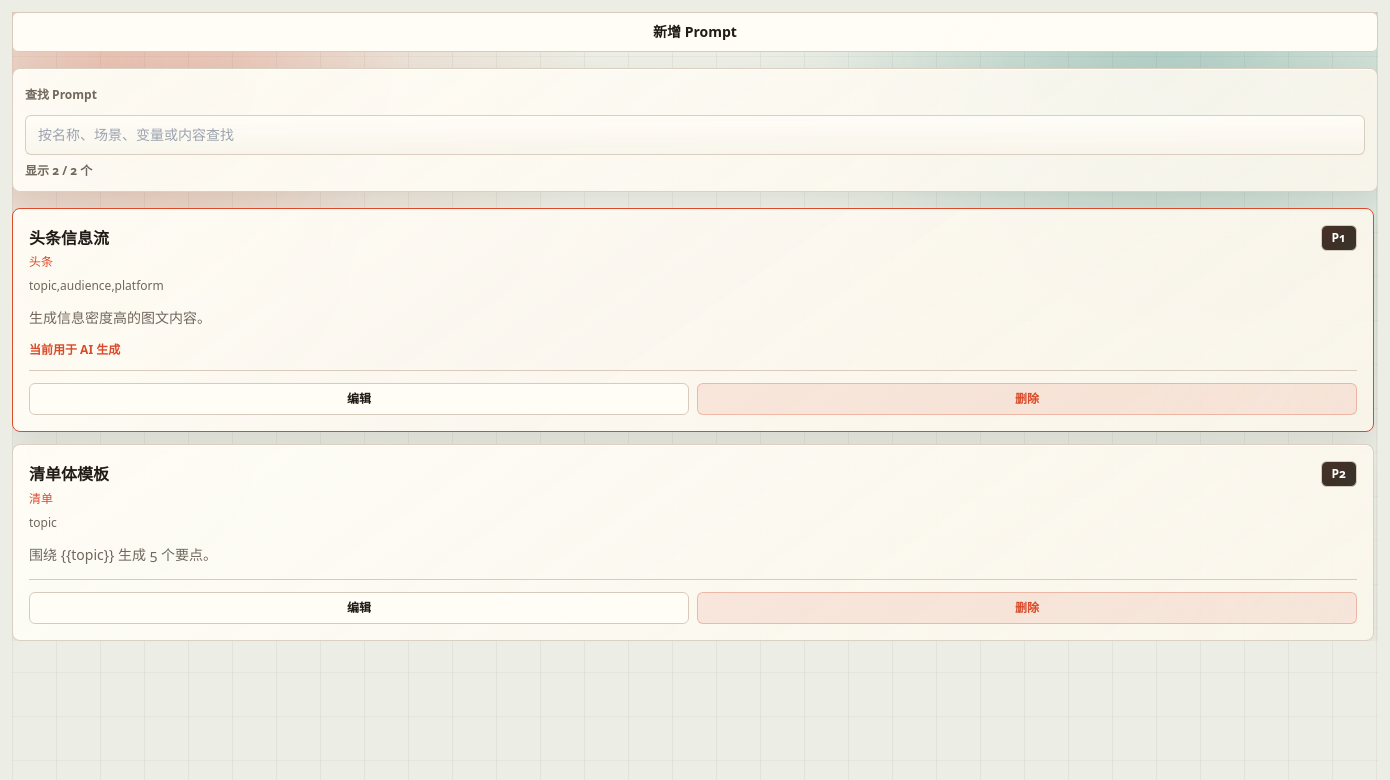
prompt library panel › filters prompt templates by keyword
Step 1. Type "清单" into the field labelled "查找 Prompt" → [695, 135], box left=25, top=115, right=1365, bottom=155
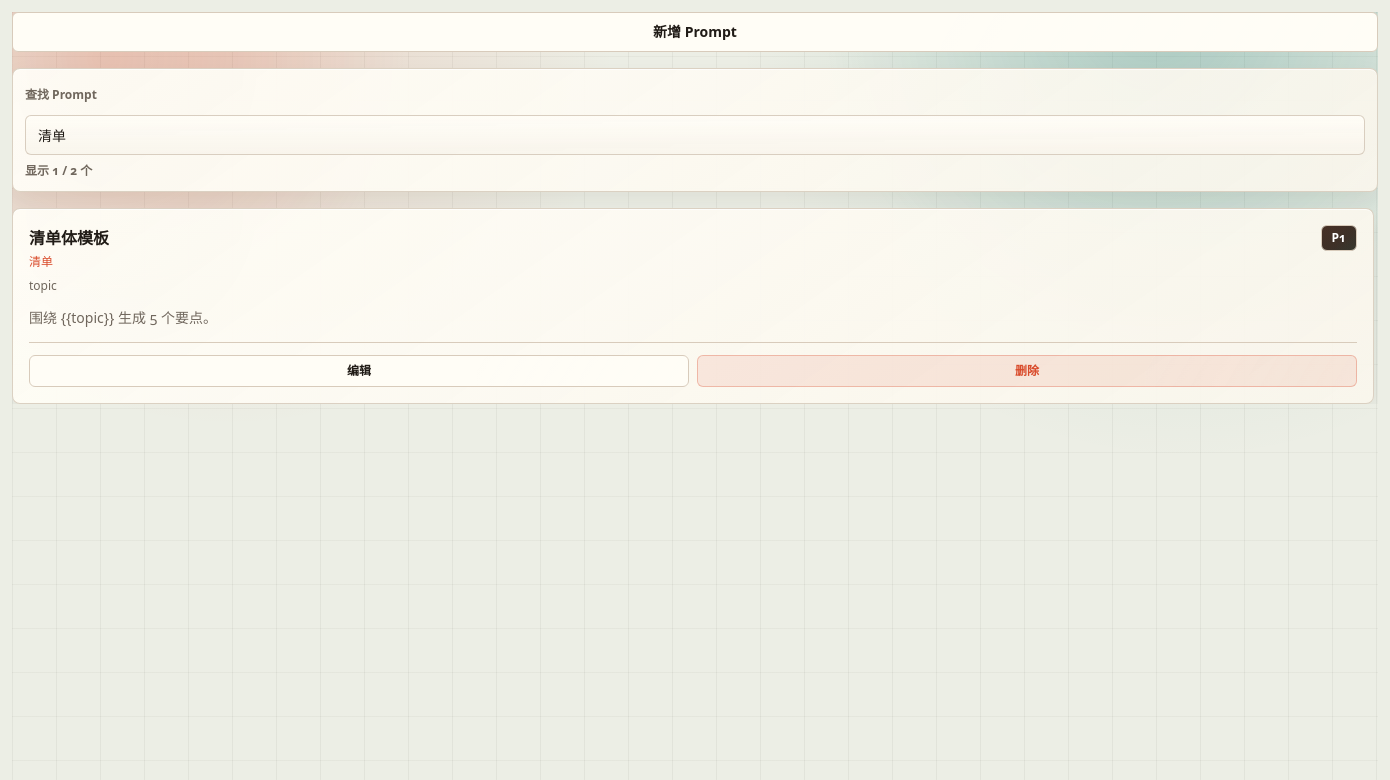
Check: the button with aria-label "选择 清单体模板" is shown, box left=29, top=225, right=1357, bottom=330
Check: the heading "选择 头条信息流" is gone
Check: the text "显示 1 / 2 个" is shown, box left=25, top=162, right=92, bottom=179
